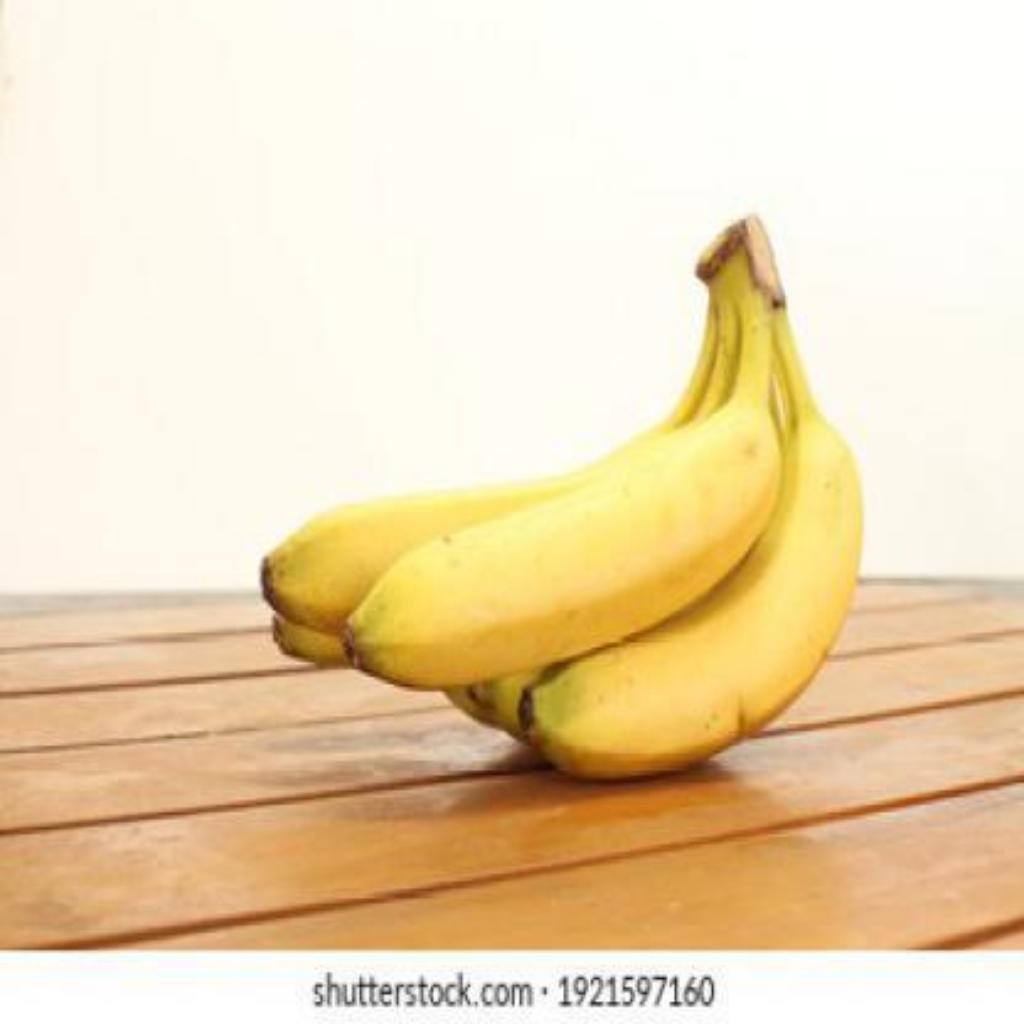banana: (345, 251, 780, 694), (507, 315, 859, 785), (258, 478, 566, 670)
